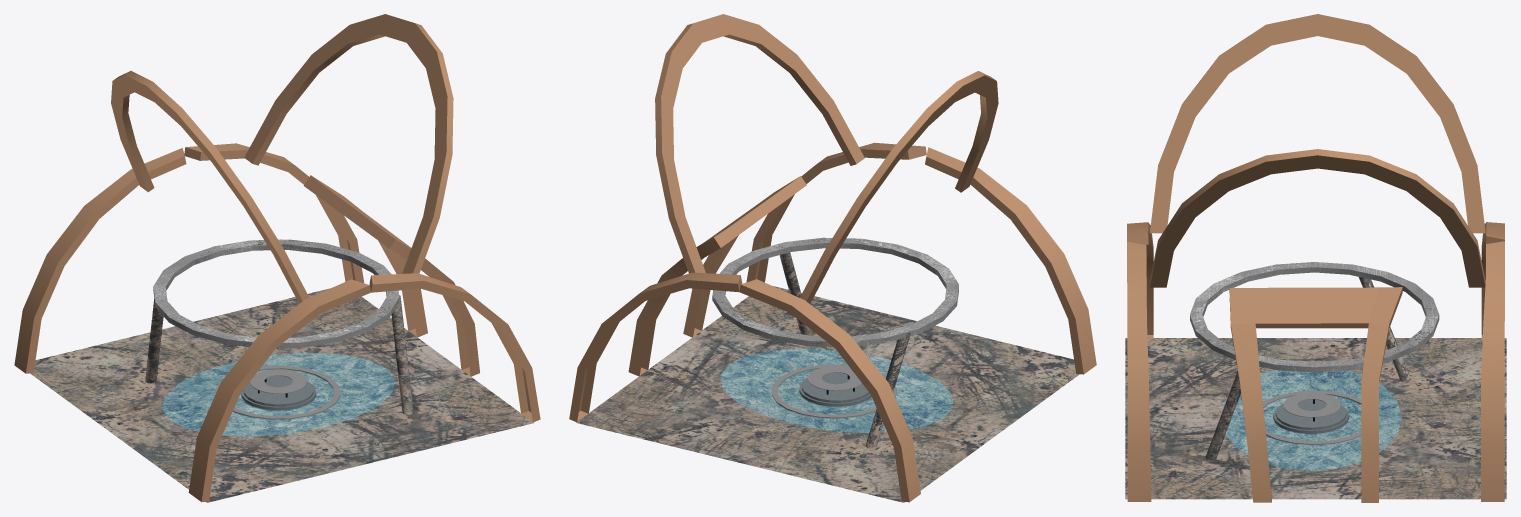
Rendered from enviroment_non_glass.fbx.
3 views of the same model, side by side, from view 1: azimuth 30°, elevation 25°; view 2: azimuth 150°, elevation 25°; view 3: azimuth 270°, elevation 25° (orthographic).
Visible parts, largest first — view 1: enviroment_all; view 2: enviroment_all; view 3: enviroment_all.
Part boxes in pixels (x1,y1,x2,y2): enviroment_all: [14, 14, 540, 502]; enviroment_all: [569, 14, 1096, 502]; enviroment_all: [1125, 14, 1506, 502].
Bounding box in the file's own units: 50.92 × 48.83 × 48.66.
